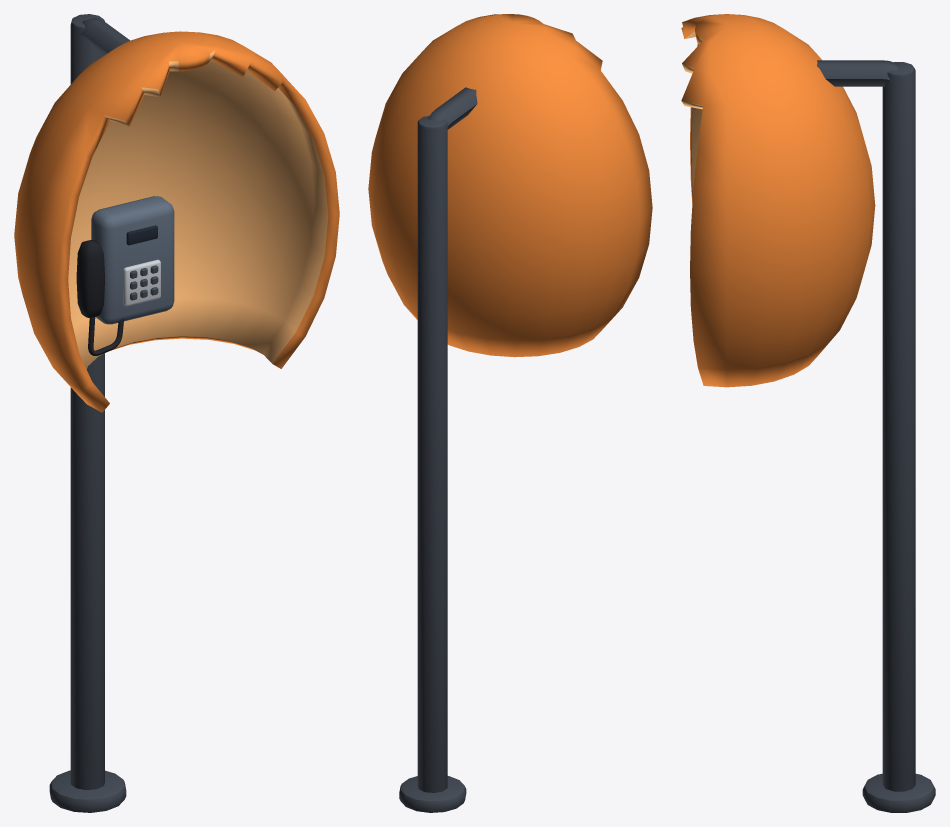
File: telefone_publico.glb
The picture shows the model from 3 angles, left to right: view 1: azimuth 30°, elevation 25°; view 2: azimuth 150°, elevation 25°; view 3: azimuth 270°, elevation 25°; orthographic projection. The views are drawn at different scales.
Parts seen in each view (by area): view 1: telefone_publico; view 2: telefone_publico; view 3: telefone_publico.
Boxes of the visible parts, <box> form: telefone_publico: <box>14,14,339,812</box>; telefone_publico: <box>368,14,652,812</box>; telefone_publico: <box>681,14,935,812</box>.
Bounding box in the file's own units: 0.9532 × 2.58 × 0.7677.
1 material, 1 textured.
